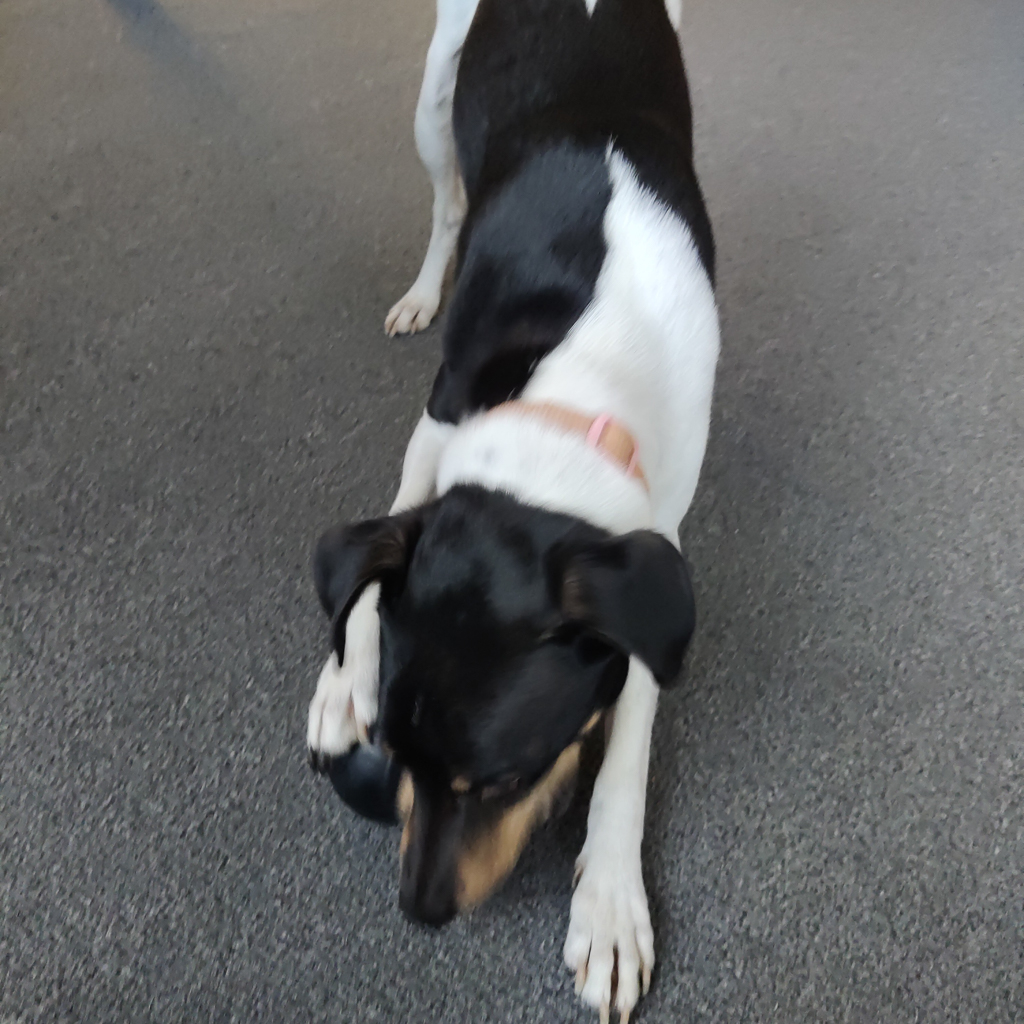Dog: (231, 0, 766, 1024)
